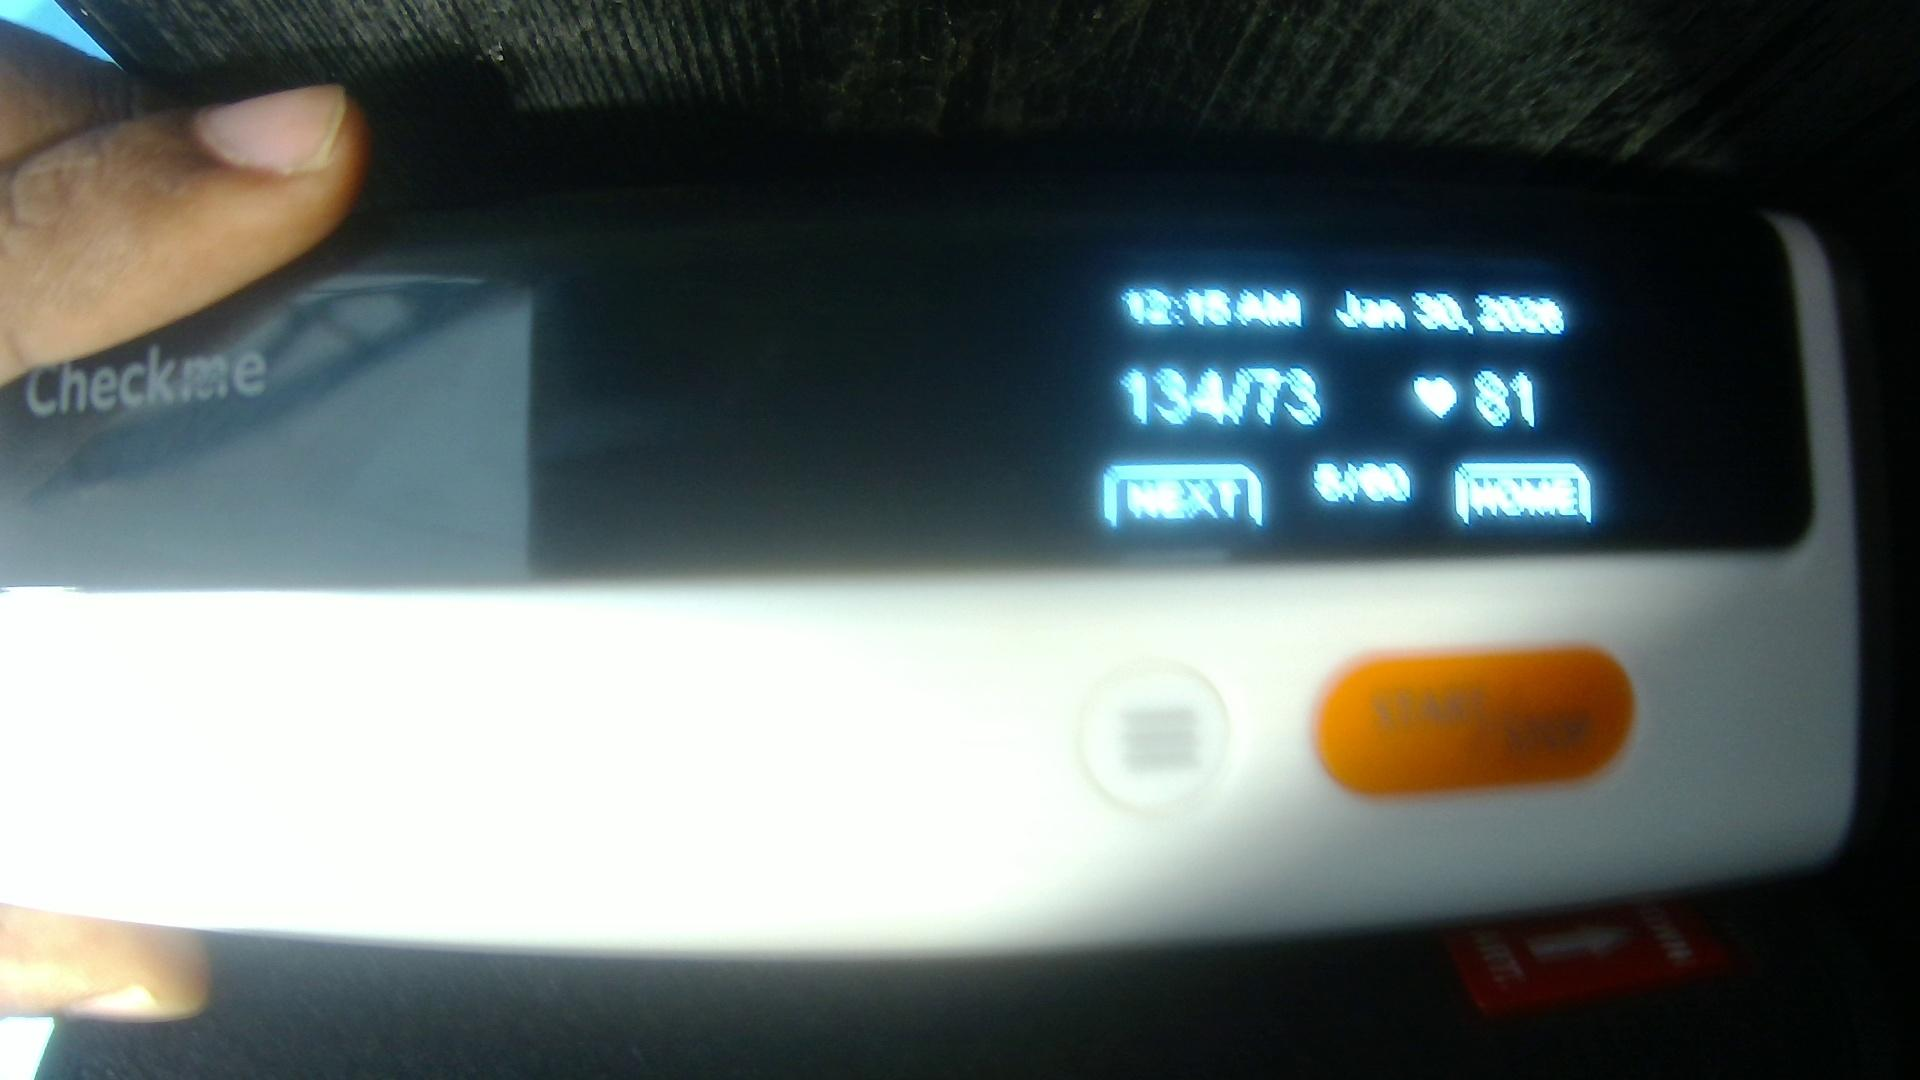DISPLAY: (309, 224, 1789, 592)
